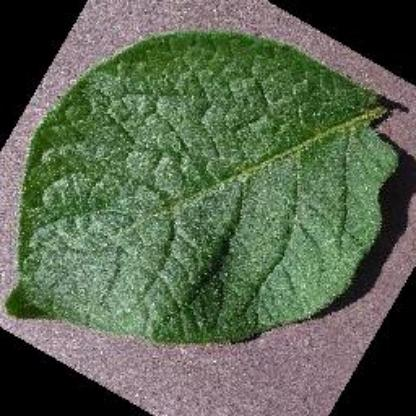Healthy-plant: (10, 25, 404, 353)
